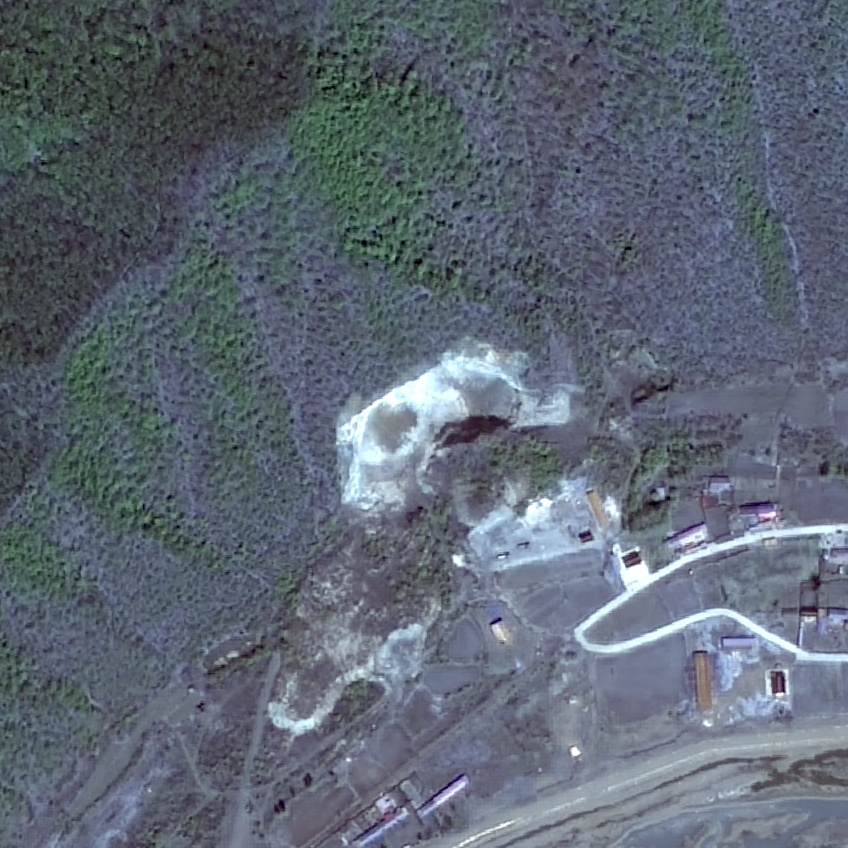slope: (331, 333, 595, 518)
